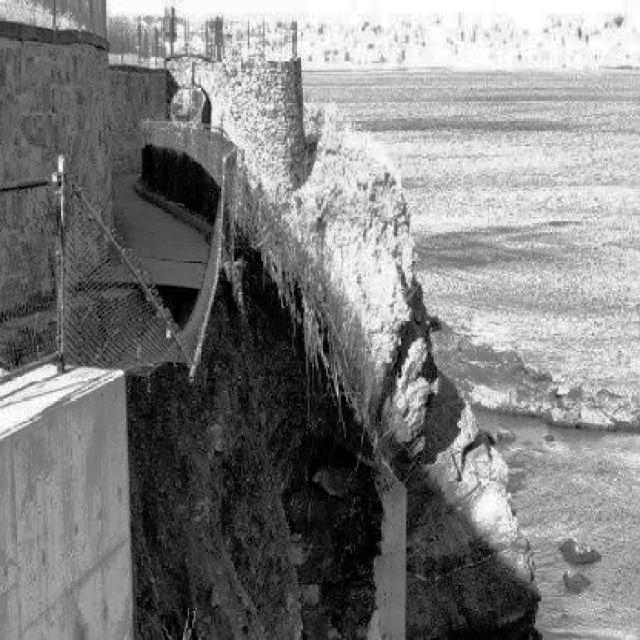anomaly-fence: (58, 103, 234, 371)
